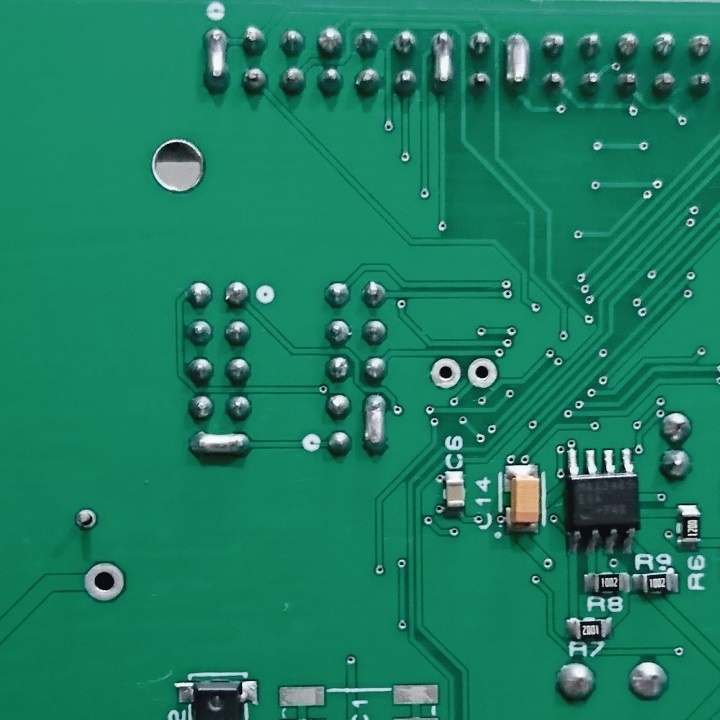F: (82, 560, 127, 606), (466, 355, 500, 393), (428, 355, 461, 391), (73, 504, 99, 535)
P: (201, 23, 236, 98), (184, 427, 254, 462), (359, 389, 392, 460), (426, 28, 461, 94), (501, 29, 534, 96)
